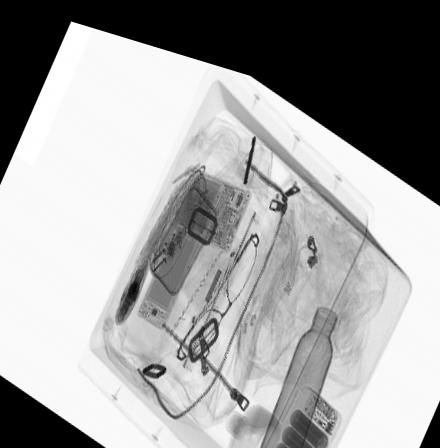Powerbank: (134, 210, 201, 320)
